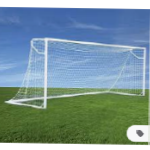goals: (3, 34, 149, 110)
